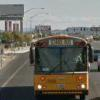Bus: (25, 30, 94, 100)
